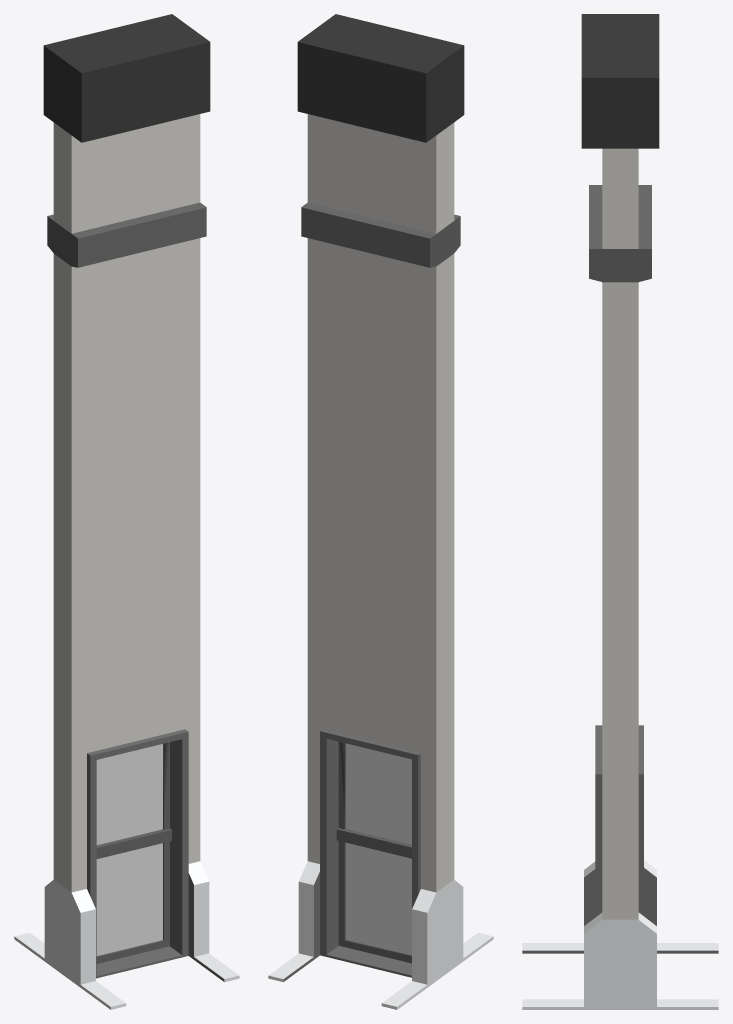
File: Wall-Win-Entrance.fbx
The picture shows the model from 3 angles, left to right: view 1: azimuth 30°, elevation 25°; view 2: azimuth 150°, elevation 25°; view 3: azimuth 270°, elevation 25°; orthographic projection.
Visible parts, largest first — view 1: Wall-Win-Entrance, WinDoor, WinEntFrame, WinDrFrame; view 2: Wall-Win-Entrance, WinDoor, WinEntFrame, WinDrFrame; view 3: Wall-Win-Entrance, WinEntFrame.
Boxes of the visible parts, x1,y1,x2,y2 form: Wall-Win-Entrance: [14, 14, 239, 1009]; WinDoor: [96, 744, 162, 955]; WinEntFrame: [87, 729, 188, 978]; WinDrFrame: [96, 742, 171, 963]; Wall-Win-Entrance: [268, 14, 493, 1009]; WinDoor: [345, 743, 411, 955]; WinEntFrame: [320, 729, 420, 977]; WinDrFrame: [336, 741, 411, 963]; Wall-Win-Entrance: [522, 14, 718, 1009]; WinEntFrame: [595, 725, 643, 917].
Size of the model in its own units: 1.33 by 1.72 by 9.02.
